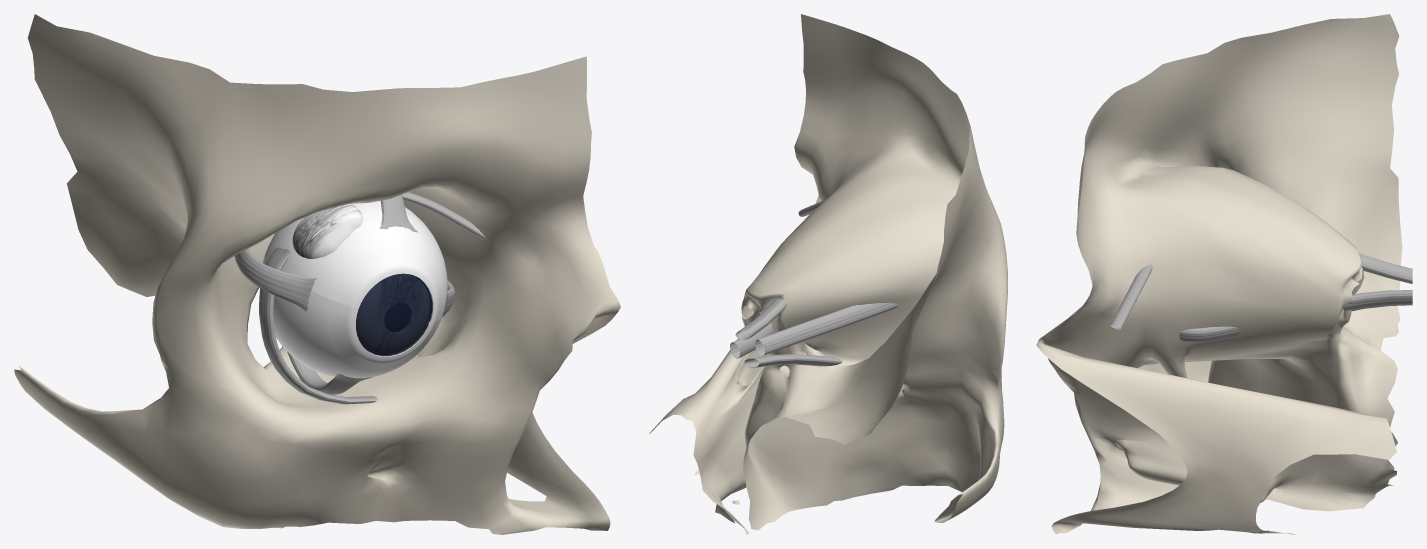
The model's file is sight.dae.
The picture shows the model from 3 angles, left to right: view 1: azimuth 30°, elevation 25°; view 2: azimuth 150°, elevation 25°; view 3: azimuth 270°, elevation 25°; orthographic projection. The views are drawn at different scales.
Parts seen in each view (by area): view 1: SighSkul, SighEsc2, SighEsc1, SighConj, SighCorn, SighSkin, SighTe06, SighTe05, SighTe04, SighTe02, SighTe01; view 2: SighSkul, SighTe05, SighTe04, SighTe01, SighTe03; view 3: SighSkul, SighTe03, SighTe02, SighTe01.
Boxes of the visible parts, box(x1,y1,x2,y2) form: SighSkul: box(14, 14, 620, 534); SighEsc2: box(265, 200, 447, 321); SighEsc1: box(262, 232, 441, 378); SighConj: box(356, 273, 432, 356); SighCorn: box(356, 274, 429, 353); SighSkin: box(292, 204, 362, 258); SighTe06: box(259, 247, 377, 404); SighTe05: box(234, 248, 316, 311); SighTe04: box(287, 351, 374, 394); SighTe02: box(402, 192, 487, 240); SighTe01: box(379, 195, 418, 232); SighSkul: box(649, 14, 1007, 534); SighTe05: box(755, 302, 898, 355); SighTe04: box(744, 354, 842, 368); SighTe01: box(735, 298, 786, 339); SighTe03: box(730, 321, 774, 358); SighSkul: box(1036, 14, 1402, 534); SighTe03: box(1179, 290, 1412, 342); SighTe02: box(1110, 264, 1152, 329); SighTe01: box(1359, 253, 1412, 282).
Bounding box in the file's own units: 5095 × 5868 × 5252.
